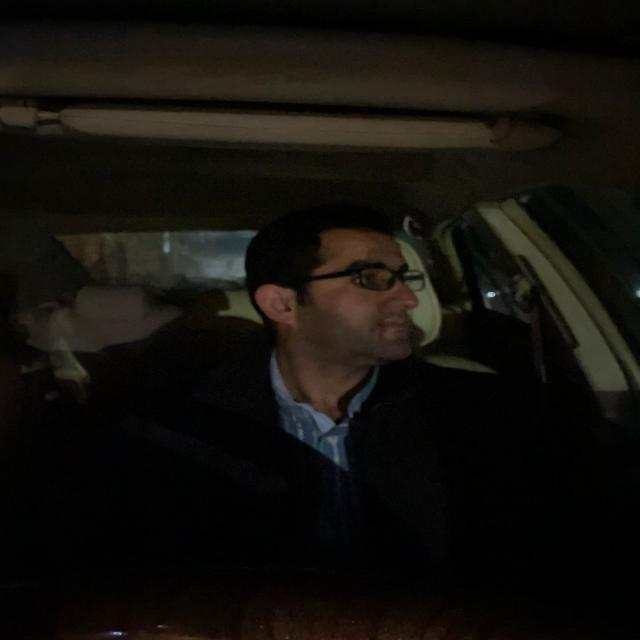LeftRight: (238, 205, 431, 372)
